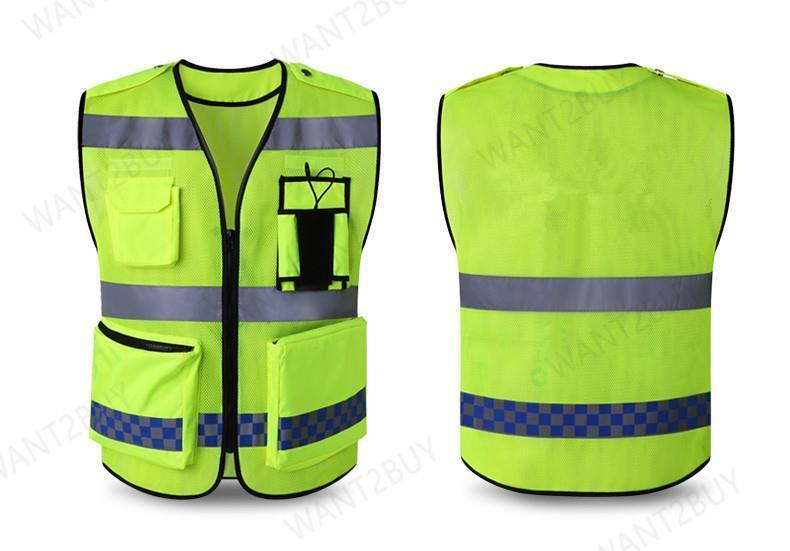vest: (74, 62, 382, 496), (437, 56, 734, 497)
